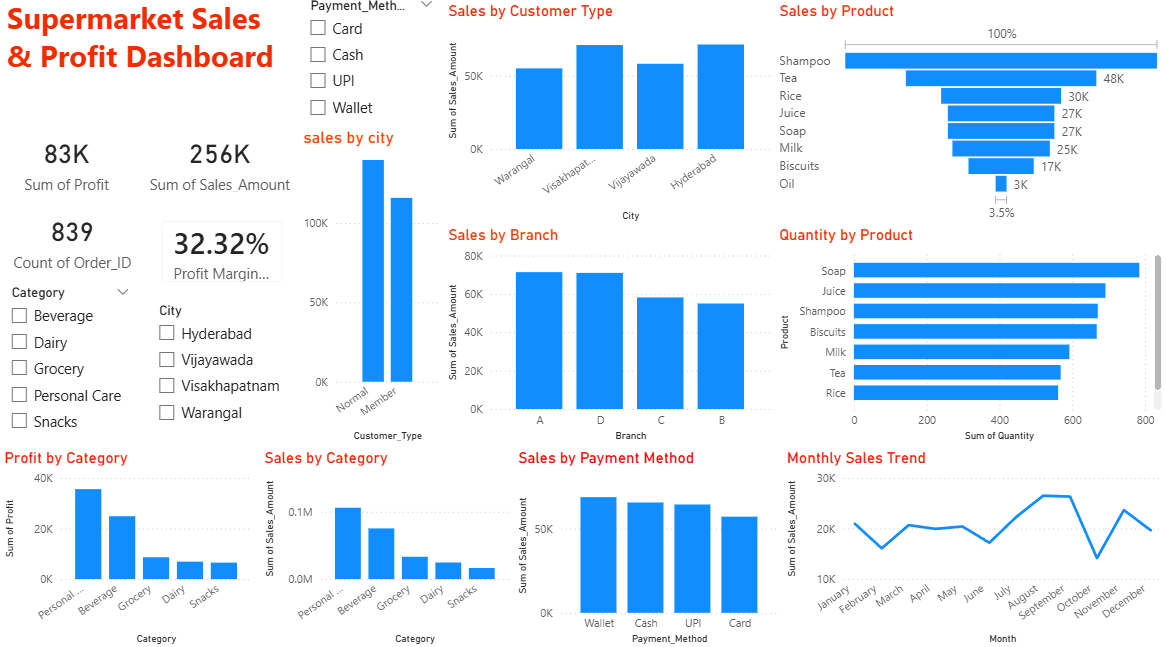

What the dashboard file says about the page in this screenshot:
{"tool":"powerbi","page":{"name":"Page 1","canvas":[1280,720],"ordinal":0},"visuals":[{"type":"card","fields":{"Values":["Sum(sales_data.Sales_Amount)"]},"box":[157.8,149.6,167.4,72.7],"z":0},{"type":"card","fields":{"Values":["Sum(sales_data.Profit)"]},"box":[2.7,148.2,141.3,74.1],"z":1000},{"type":"card","fields":{"Values":["CountNonNull(sales_data.Order_ID)"]},"box":[2.7,233.3,153.7,76.8],"z":2000},{"type":"cardVisual","fields":{"Data":["sales_data.Profit Margin %"]},"box":[160.5,233.3,167.4,101.5],"z":3000},{"type":"clusteredColumnChart","title":"Sales by Customer Type","fields":{"Category":["sales_data.City"],"Y":["Sum(sales_data.Sales_Amount)"]},"box":[487.1,0,363.6,255.2],"z":4000},{"type":"funnel","title":"Sales by Product","fields":{"Category":["sales_data.Product"],"Y":["Sum(sales_data.Sales_Amount)"]},"box":[850.8,0,429.5,255.2],"z":5000},{"type":"clusteredColumnChart","title":"Sales by Category","fields":{"Category":["sales_data.Category"],"Y":["Sum(sales_data.Sales_Amount)"]},"box":[285.4,499.5,278.6,220.9],"z":6000},{"type":"clusteredColumnChart","title":" Profit by Category","fields":{"Category":["sales_data.Category"],"Y":["Sum(sales_data.Profit)"]},"box":[0,499.5,281.3,220.9],"z":7000},{"type":"clusteredColumnChart","title":" Sales by Payment Method","fields":{"Category":["sales_data.Payment_Method"],"Y":["Sum(sales_data.Sales_Amount)"]},"box":[564,499.5,295,220.9],"z":8000},{"type":"lineChart","title":"Monthly Sales Trend","fields":{"Category":["sales_data.Date.Variation.Date Hierarchy.Month"],"Y":["Sum(sales_data.Sales_Amount)"]},"box":[859,499.5,421.3,220.9],"z":9000},{"type":"lineClusteredColumnComboChart","title":"Sales by Branch","fields":{"Category":["sales_data.Branch"],"Y":["Sum(sales_data.Sales_Amount)"]},"box":[487.1,255.2,363.6,241.5],"z":10000},{"type":"clusteredColumnChart","title":"sales by city","fields":{"Category":["sales_data.Customer_Type"],"Y":["Sum(sales_data.Sales_Amount)"]},"box":[328,148.2,159.2,348.5],"z":11000},{"type":"clusteredBarChart","title":" Quantity by Product","fields":{"Category":["sales_data.Product"],"Y":["Sum(sales_data.Quantity)"]},"box":[850.8,255.2,429.5,241.5],"z":12000},{"type":"slicer","fields":{"Values":["sales_data.City"]},"box":[161.9,334.8,160.5,161.9],"z":13000},{"type":"slicer","fields":{"Values":["sales_data.Category"]},"box":[0,315.6,153.7,181.1],"z":14000},{"type":"slicer","fields":{"Values":["sales_data.Payment_Method"]},"box":[328,0,159.2,148.2],"z":15000},{"type":"textbox","box":[2.7,0,318.4,140],"z":16000}]}

Visuals, with their boxes in screenshot pixels (x1, y1, x2, y2), scaled from the page's 1280x720 canvas onto the 1166x647 screenshot:
card - Sum(sales_data.Sales_Amount): detection(144, 134, 296, 200)
card - Sum(sales_data.Profit): detection(2, 133, 131, 200)
card - CountNonNull(sales_data.Order_ID): detection(2, 210, 142, 279)
cardVisual - sales_data.Profit Margin %: detection(146, 210, 299, 301)
"Sales by Customer Type" clusteredColumnChart: detection(444, 0, 775, 229)
"Sales by Product" funnel: detection(775, 0, 1165, 229)
"Sales by Category" clusteredColumnChart: detection(260, 449, 514, 646)
" Profit by Category" clusteredColumnChart: detection(0, 449, 256, 646)
" Sales by Payment Method" clusteredColumnChart: detection(514, 449, 782, 646)
"Monthly Sales Trend" lineChart: detection(782, 449, 1165, 646)
"Sales by Branch" lineClusteredColumnComboChart: detection(444, 229, 775, 446)
"sales by city" clusteredColumnChart: detection(299, 133, 444, 446)
" Quantity by Product" clusteredBarChart: detection(775, 229, 1165, 446)
slicer - sales_data.City: detection(147, 301, 294, 446)
slicer - sales_data.Category: detection(0, 284, 140, 446)
slicer - sales_data.Payment_Method: detection(299, 0, 444, 133)
textbox: detection(2, 0, 293, 126)
